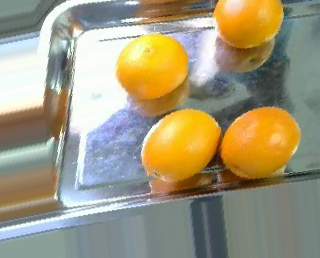Orange: (140, 107, 221, 182), (220, 105, 301, 179), (116, 34, 188, 99), (212, 0, 285, 47)
